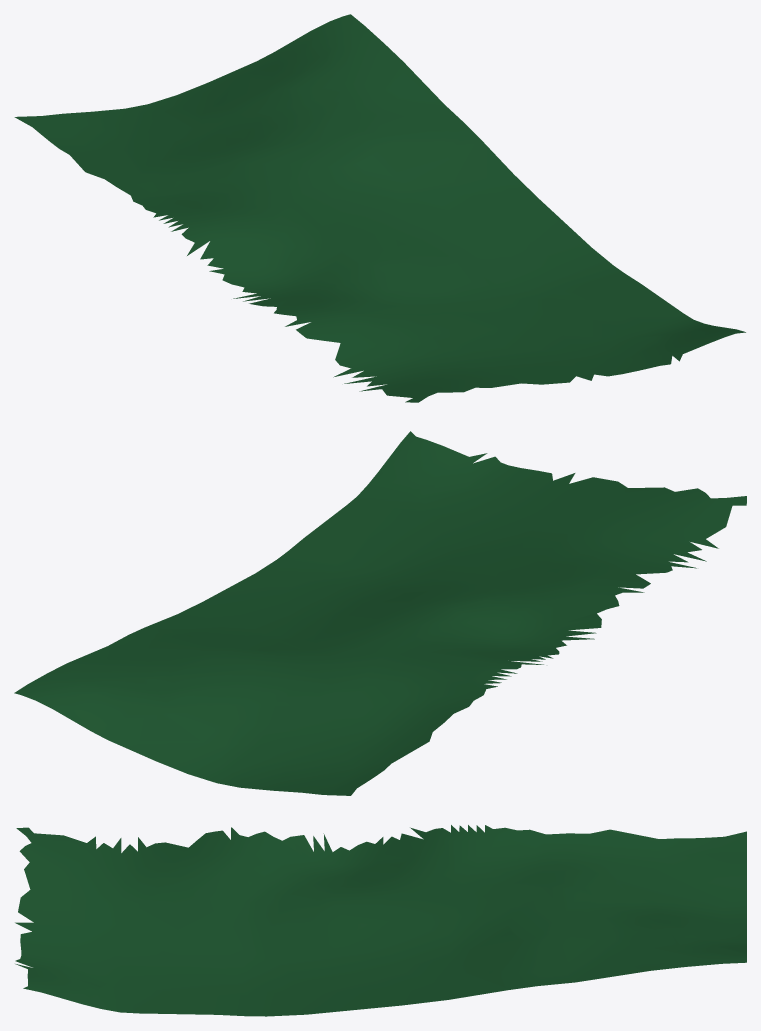
File: payo_land_xm5_ym3_lod1.glb
3 renders of one model, top to bottom at view 1: azimuth 30°, elevation 25°; view 2: azimuth 150°, elevation 25°; view 3: azimuth 270°, elevation 25°, orthographic. The views are drawn at different scales.
Parts seen in each view (by area): view 1: payo_land_xm5_ym3; view 2: payo_land_xm5_ym3; view 3: payo_land_xm5_ym3.
Boxes of the visible parts, <box> form: payo_land_xm5_ym3: <box>14,14,745,402</box>; payo_land_xm5_ym3: <box>14,431,746,795</box>; payo_land_xm5_ym3: <box>15,825,746,1016</box>.
Bounding box in the file's own units: 131 × 21.27 × 260.
